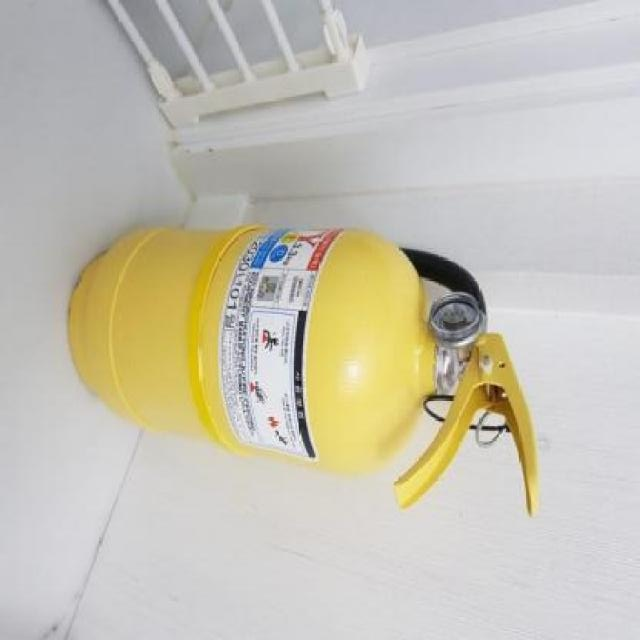fire extinguisher: (67, 226, 541, 519)
